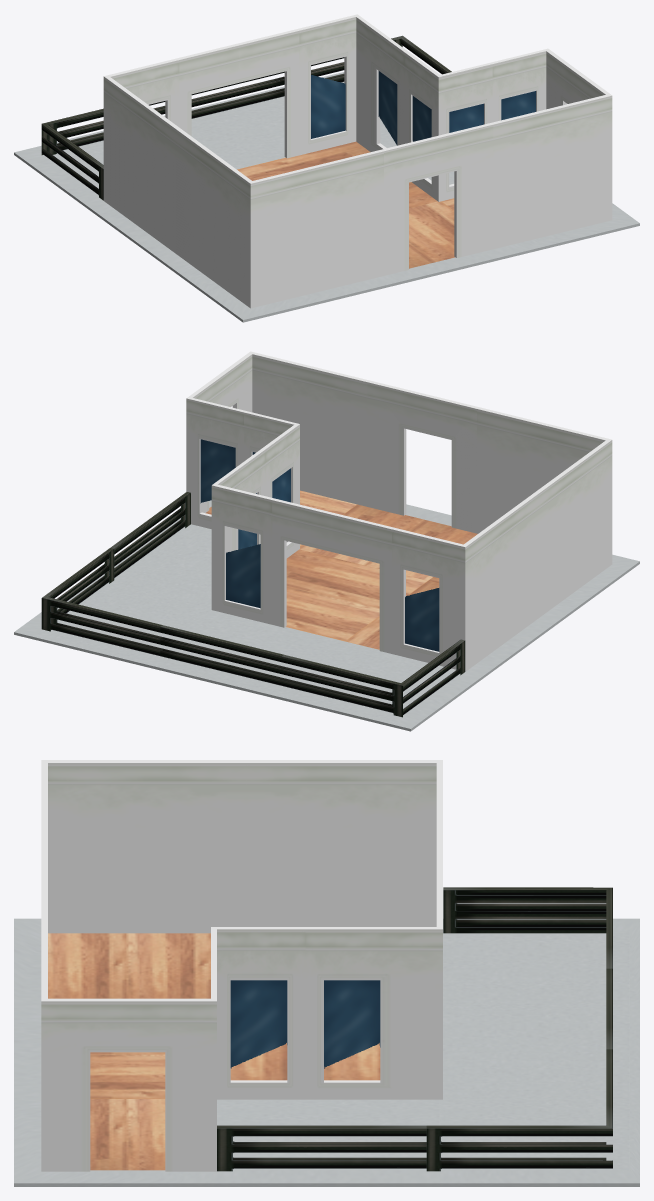
Rendered from homeoffice.fbx.
The picture shows the model from 3 angles, top to bottom: view 1: azimuth 30°, elevation 25°; view 2: azimuth 150°, elevation 25°; view 3: azimuth 270°, elevation 25°; orthographic projection. The views are drawn at different scales.
Visible parts, largest first — view 1: walls, floor, patiofence_PASS1, glasswindows_PASS1; view 2: walls, floor, patiofence_PASS1, glasswindows_PASS1; view 3: walls, floor, patiofence_PASS1, glasswindows_PASS1.
Part boxes in pixels (x1,y1,x2,y2): walls: [103, 14, 612, 308]; floor: [14, 72, 639, 322]; patiofence_PASS1: [41, 35, 451, 200]; glasswindows_PASS1: [311, 71, 535, 145]; walls: [186, 351, 612, 671]; floor: [14, 490, 639, 731]; patiofence_PASS1: [41, 492, 465, 717]; glasswindows_PASS1: [200, 439, 439, 651]; walls: [41, 760, 442, 1171]; floor: [14, 918, 639, 1186]; patiofence_PASS1: [217, 887, 612, 1171]; glasswindows_PASS1: [230, 980, 380, 1068].
Bounding box in the file's own units: 1015 × 311 × 1015.
